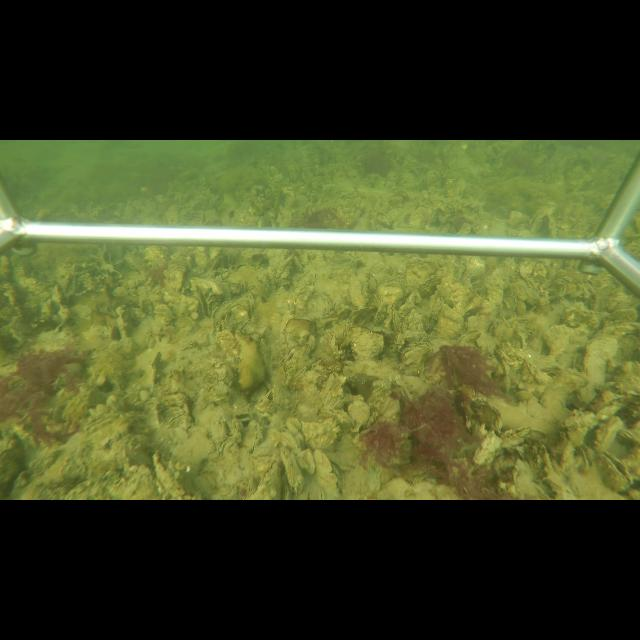Oyster-Closed: (540, 367, 592, 422), (241, 454, 284, 499), (582, 334, 621, 381), (314, 448, 346, 498), (278, 446, 304, 495), (136, 349, 162, 395), (241, 418, 265, 457), (350, 332, 385, 358), (397, 342, 434, 365), (594, 319, 638, 336), (351, 276, 369, 313), (297, 447, 316, 476), (319, 380, 338, 408), (398, 293, 416, 317), (456, 329, 482, 345), (372, 299, 386, 327), (393, 308, 401, 332)
Oyster-Open: (599, 450, 633, 493), (193, 285, 214, 320), (577, 444, 594, 473)
